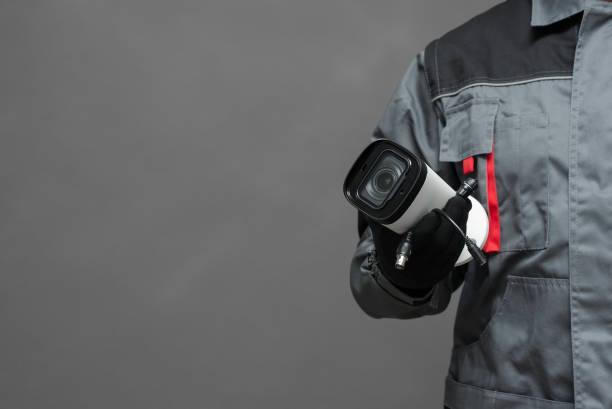camera: (291, 124, 527, 278)
